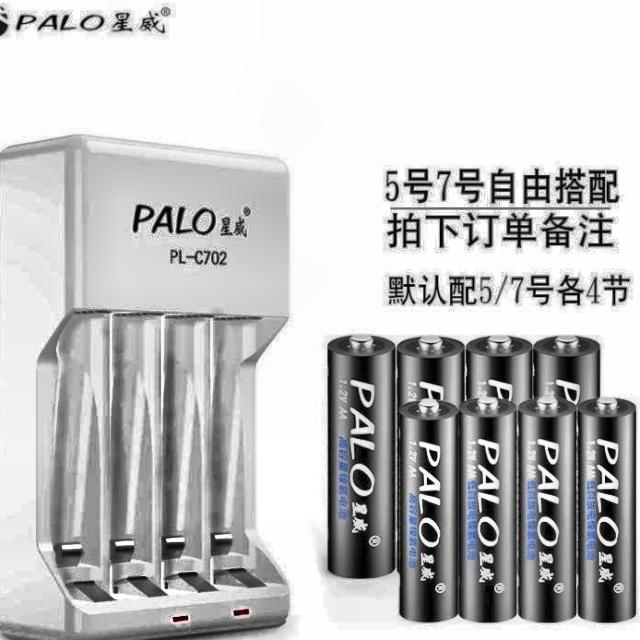Non-Valuable Waste - Batteries: (328, 336, 395, 578), (399, 398, 459, 622), (578, 398, 637, 622), (518, 397, 576, 622), (459, 397, 517, 622), (398, 336, 464, 407), (465, 336, 533, 404), (533, 336, 601, 404)
